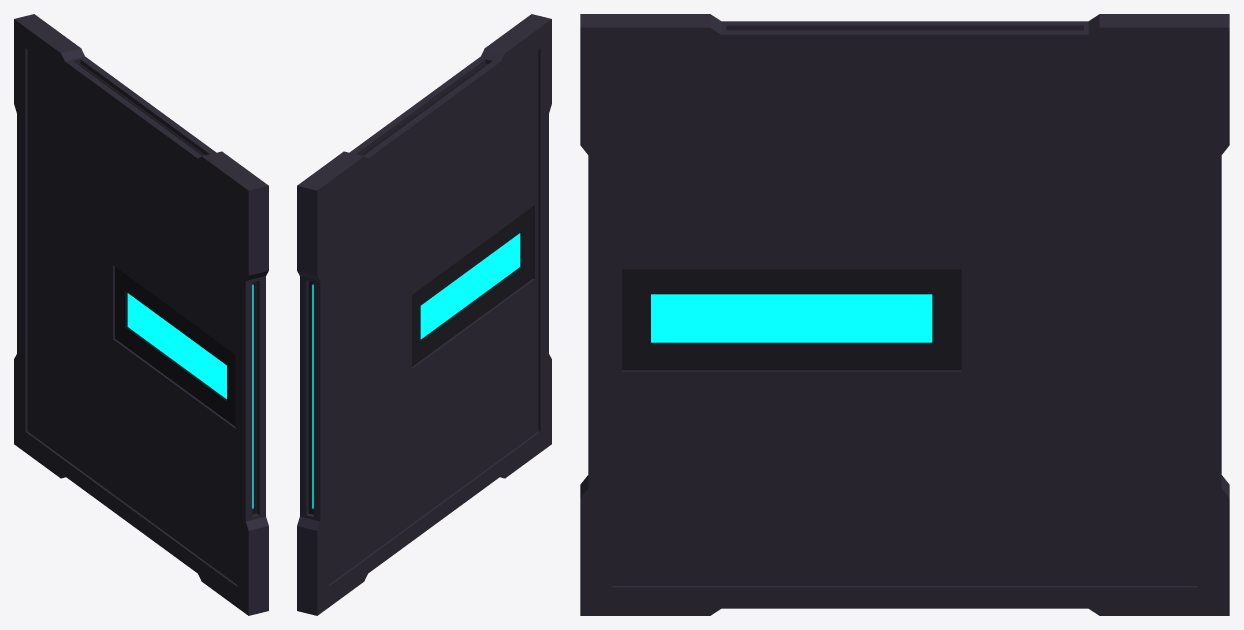
The model's file is SM_Wall_Straight_1x2.fbx.
3 renders of one model, left to right at view 1: azimuth 30°, elevation 25°; view 2: azimuth 150°, elevation 25°; view 3: azimuth 270°, elevation 25°, orthographic. The views are drawn at different scales.
Parts seen in each view (by area): view 1: SM_Wall_Straight_1x2; view 2: SM_Wall_Straight_1x2; view 3: SM_Wall_Straight_1x2.
Part boxes in pixels (bbox=[...]): SM_Wall_Straight_1x2: bbox=[14, 14, 268, 615]; SM_Wall_Straight_1x2: bbox=[297, 14, 551, 615]; SM_Wall_Straight_1x2: bbox=[580, 14, 1229, 615].
Size of the model in its own units: 10 by 200 by 200.
